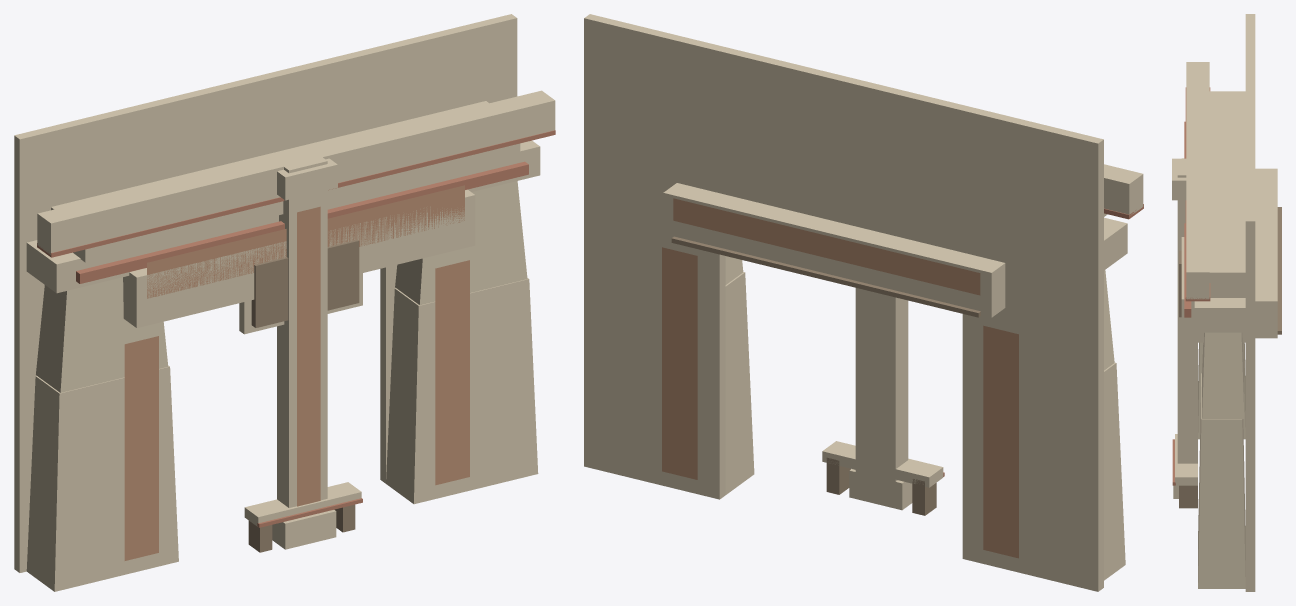
File: meso.glb
The picture shows the model from 3 angles, left to right: view 1: azimuth 30°, elevation 25°; view 2: azimuth 150°, elevation 25°; view 3: azimuth 270°, elevation 25°; orthographic projection. The views are drawn at different scales.
Visible parts, largest first — view 1: Lime_jambL, Lime_jambR, Lime_beam, Lime_backHdr, Lime_backL, Lime_backR, Lime_lintel, Lime_jambL2, Fret_head, Lime_piershaft, Fret_jambR, Fret_jambL (+11 smaller); view 2: Lime_backL, Lime_backR, Lime_backHdr, Lime_lintelIn, Lime_piershaft, Fret_jambInL, Fret_jambInR, Fret_headIn, Lime_jambR, Lime_jambL, Dark_lintelInTrim, Lime_benchseat (+5 smaller); view 3: Lime_jambR, Lime_crown2, Lime_beam, Lime_backR, Lime_lintelIn, Lime_jambR2, Lime_piershaft, Lime_crown1, Lime_backHdr, Lime_lintel, Dark_lintelInTrim, Lime_benchseat (+7 smaller).
Boxes of the visible parts, left/top/right/bottom form: Lime_jambL: left=26, top=365, right=178, bottom=591; Lime_jambR: left=386, top=278, right=538, bottom=504; Lime_beam: left=37, top=90, right=555, bottom=254; Lime_backHdr: left=146, top=46, right=385, bottom=182; Lime_backL: left=14, top=103, right=150, bottom=572; Lime_backR: left=380, top=14, right=517, bottom=483; Lime_lintel: left=123, top=189, right=475, bottom=327; Lime_jambL2: left=36, top=277, right=168, bottom=392; Fret_head: left=147, top=185, right=464, bottom=298; Lime_piershaft: left=277, top=152, right=327, bottom=507; Fret_jambR: left=435, top=260, right=469, bottom=485; Fret_jambL: left=124, top=336, right=158, bottom=560; Lime_backL: left=962, top=106, right=1103, bottom=591; Lime_backR: left=584, top=14, right=725, bottom=499; Lime_backHdr: left=719, top=47, right=967, bottom=252; Lime_lintelIn: left=663, top=183, right=1005, bottom=317; Lime_piershaft: left=855, top=288, right=908, bottom=507; Fret_jambInL: left=983, top=325, right=1018, bottom=558; Fret_jambInR: left=662, top=247, right=697, bottom=479; Fret_headIn: left=673, top=198, right=980, bottom=295; Lime_jambR: left=725, top=272, right=754, bottom=494; Lime_jambL: left=1104, top=362, right=1125, bottom=580; Dark_lintelInTrim: left=671, top=236, right=980, bottom=317; Lime_benchseat: left=822, top=441, right=943, bottom=487; Lime_jambR: left=1198, top=373, right=1245, bottom=588; Lime_crown2: left=1209, top=91, right=1245, bottom=297; Lime_beam: left=1186, top=62, right=1209, bottom=299; Lime_backR: left=1245, top=166, right=1255, bottom=591; Lime_lintelIn: left=1255, top=168, right=1277, bottom=338; Lime_jambR2: left=1202, top=332, right=1244, bottom=418; Lime_piershaft: left=1177, top=159, right=1197, bottom=463; Lime_crown1: left=1194, top=298, right=1245, bottom=332; Lime_backHdr: left=1245, top=68, right=1255, bottom=166; Lime_lintel: left=1181, top=158, right=1245, bottom=342; Dark_lintelInTrim: left=1277, top=207, right=1281, bottom=334; Lime_benchseat: left=1175, top=434, right=1197, bottom=485.
Bounding box in the file's own units: 7.3 × 6 × 1.61.
